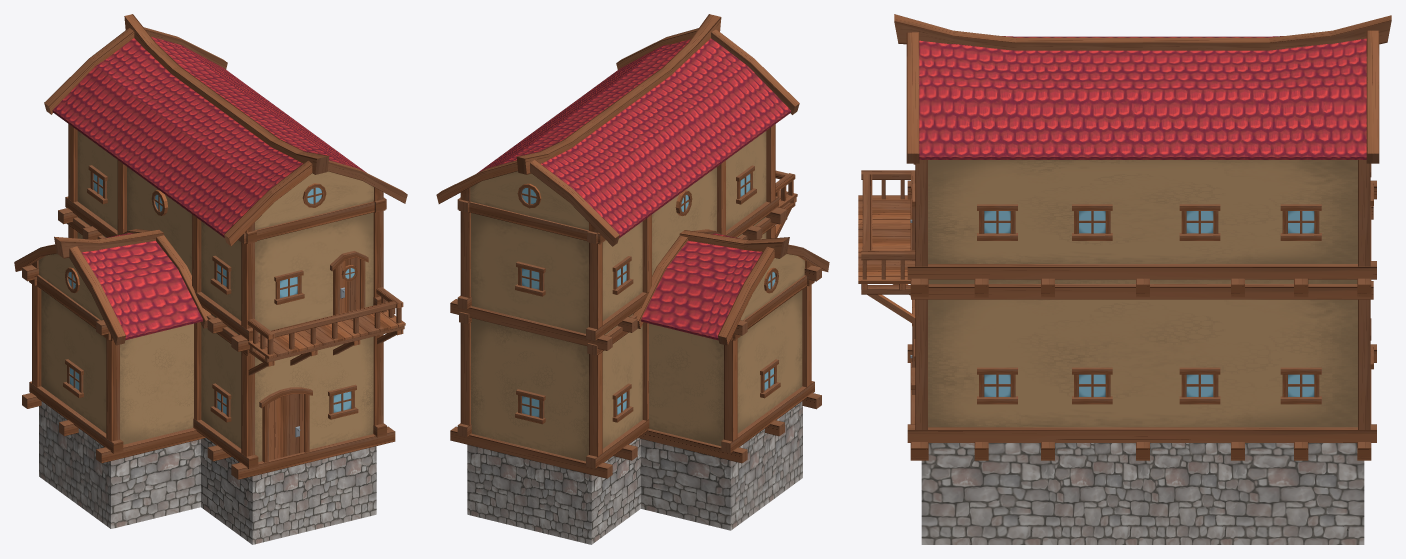
Rendered from house_town_red_2.glb.
3 views of the same model, side by side, from view 1: azimuth 30°, elevation 25°; view 2: azimuth 150°, elevation 25°; view 3: azimuth 270°, elevation 25° (orthographic). The views are drawn at different scales.
Visible parts, largest first — view 1: house_town_red_2_; view 2: house_town_red_2_; view 3: house_town_red_2_.
Boxes of the visible parts, x1=… form: house_town_red_2_: x1=14, y1=14, x2=407, y2=544; house_town_red_2_: x1=436, y1=14, x2=829, y2=544; house_town_red_2_: x1=858, y1=14, x2=1391, y2=544.
Size of the model in its own units: 12.04 by 16.99 by 16.86.
1 material, 1 textured.
